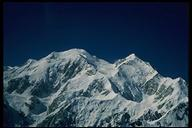mountain: (2, 45, 191, 127)
sky: (2, 1, 188, 46)
snow: (29, 65, 143, 123)
